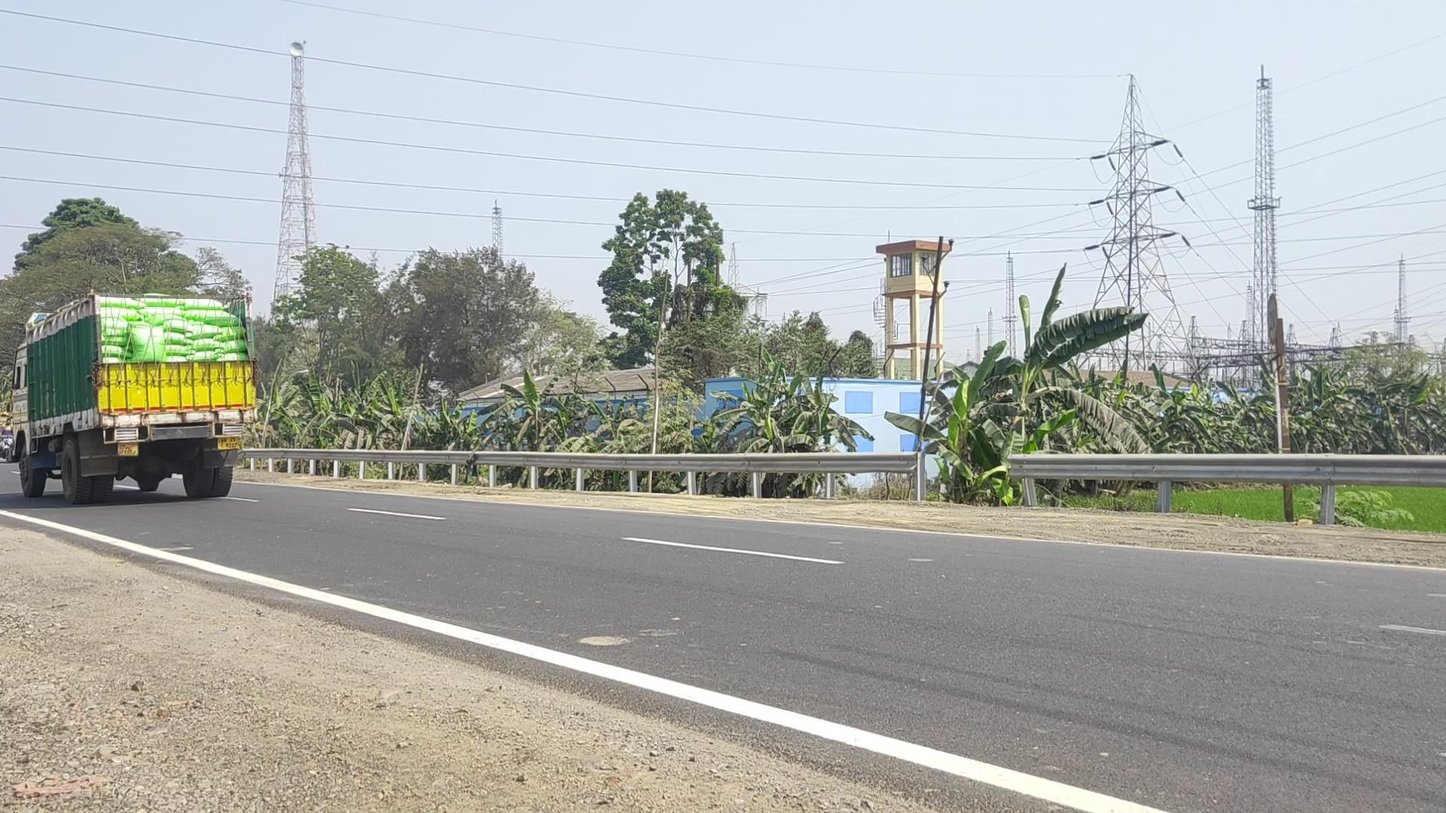truck: (11, 288, 258, 505)
